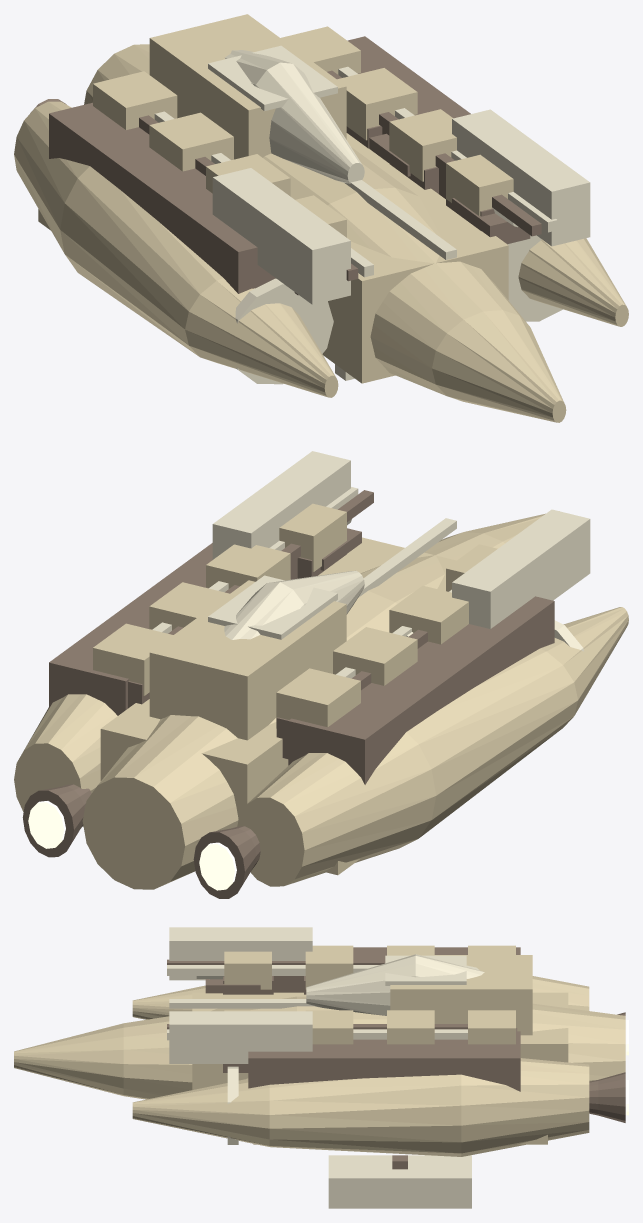
The picture shows the model from 3 angles, top to bottom: view 1: azimuth 30°, elevation 25°; view 2: azimuth 150°, elevation 25°; view 3: azimuth 270°, elevation 25°; orthographic projection. The views are drawn at different scales.
Size of the model in its own units: 12.93 by 7.95 by 24.22.
